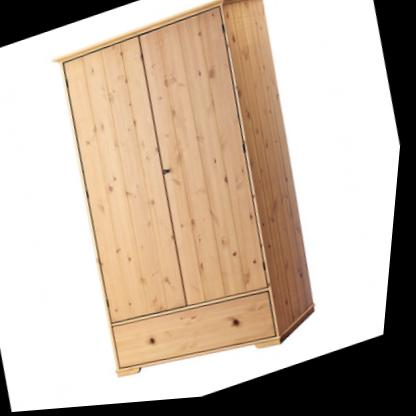Cabinet: (23, 0, 365, 412)
